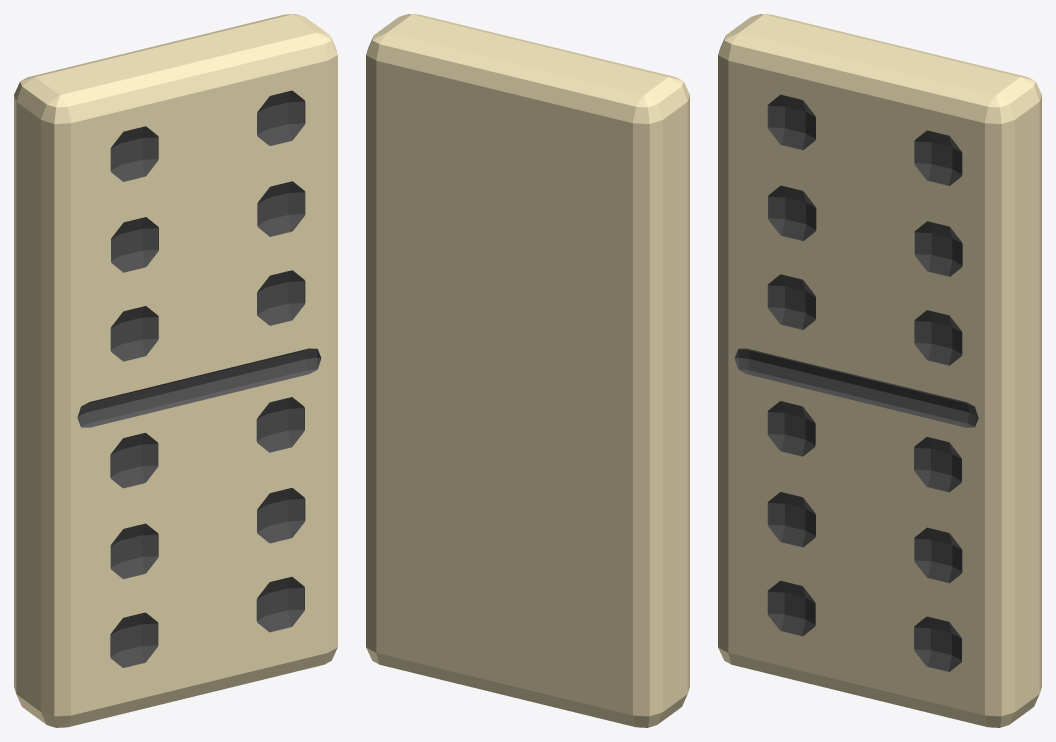
File: dominoes 6x6.fbx
The picture shows the model from 3 angles, left to right: view 1: azimuth 30°, elevation 25°; view 2: azimuth 150°, elevation 25°; view 3: azimuth 330°, elevation 25°; orthographic projection.
Parts seen in each view (by area): view 1: Boole_1; view 2: Boole_1; view 3: Boole_1.
Boxes of the visible parts, x1,y1,x2,y2 form: Boole_1: (14, 14, 337, 727); Boole_1: (366, 14, 689, 727); Boole_1: (718, 14, 1041, 727).
Size of the model in its own units: 200 by 410 by 55.02.
